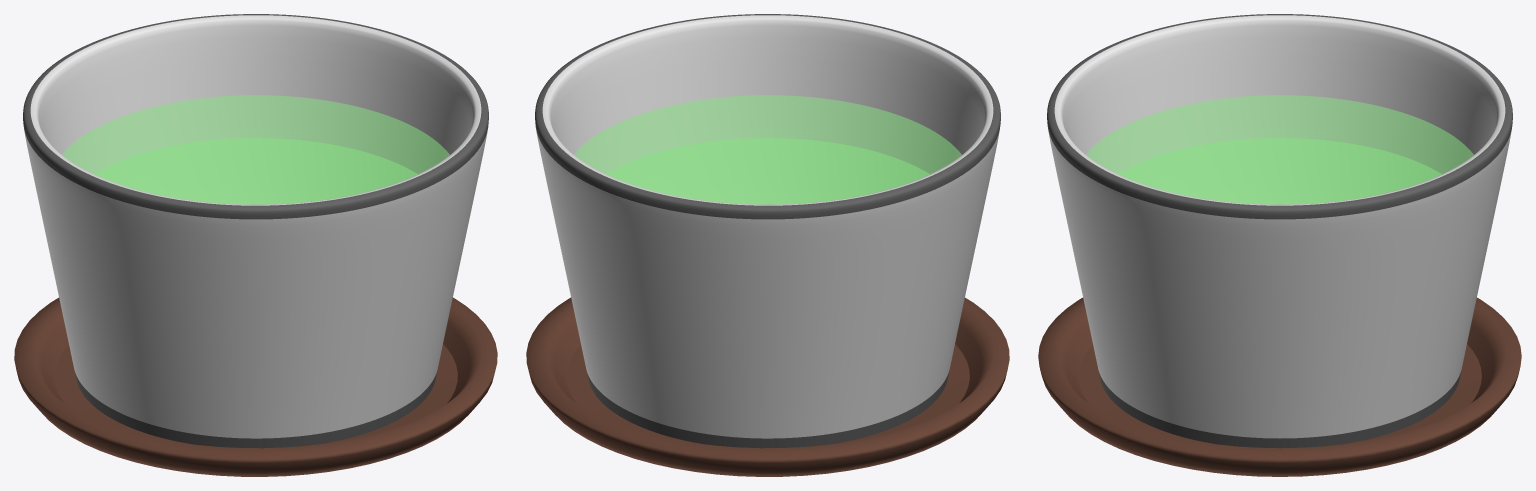
The model's file is TS_GreenTea.fbx.
3 renders of one model, left to right at view 1: azimuth 30°, elevation 25°; view 2: azimuth 150°, elevation 25°; view 3: azimuth 270°, elevation 25°, orthographic.
Visible parts, largest first — view 1: 円柱.001, 円柱.002, 円柱; view 2: 円柱.001, 円柱.002, 円柱; view 3: 円柱.001, 円柱.002, 円柱.
Boxes of the visible parts, x1,y1,x2,y2 form: 円柱.001: [23, 14, 488, 448]; 円柱.002: [62, 95, 449, 204]; 円柱: [14, 297, 497, 476]; 円柱.001: [535, 14, 1000, 448]; 円柱.002: [574, 95, 961, 204]; 円柱: [526, 297, 1009, 476]; 円柱.001: [1047, 14, 1512, 448]; 円柱.002: [1086, 95, 1473, 204]; 円柱: [1038, 297, 1521, 476].
Size of the model in its own units: 191 by 118 by 191.
